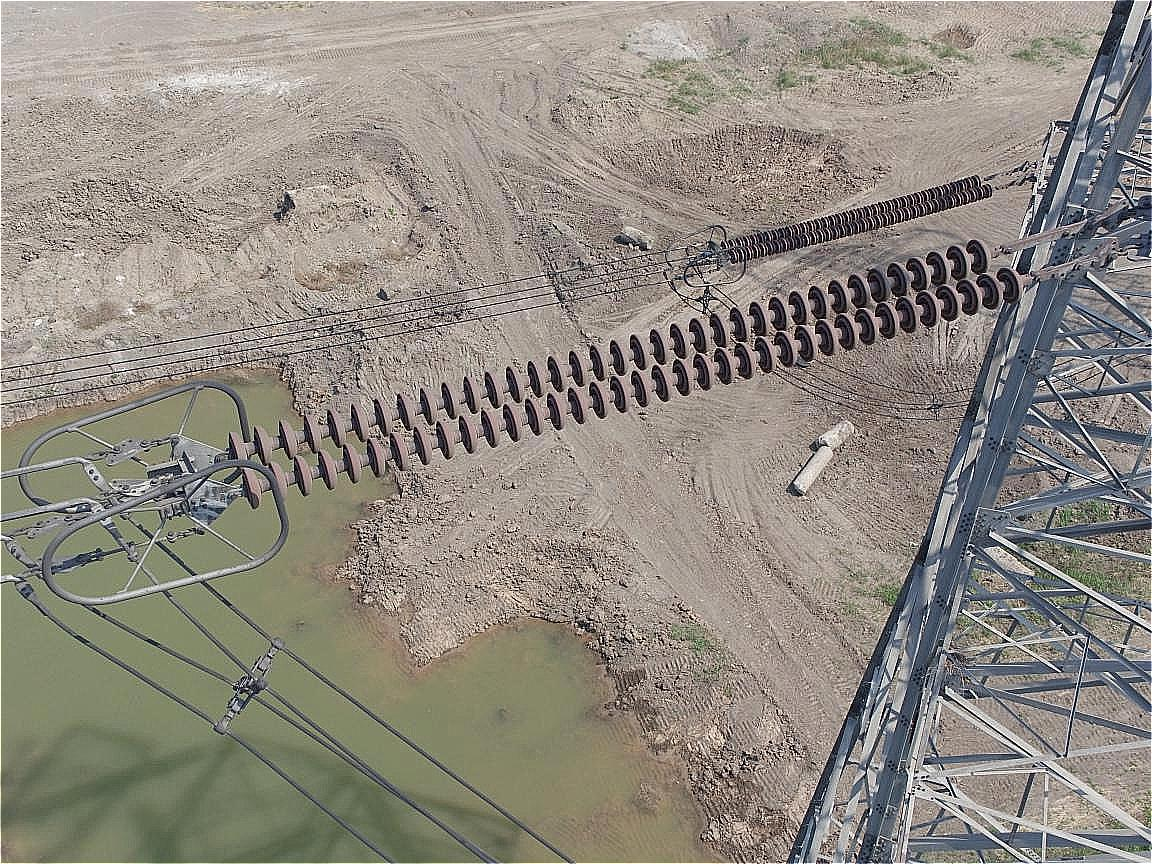insultor1: (187, 237, 1020, 524)
insultor2: (710, 153, 1013, 265)
